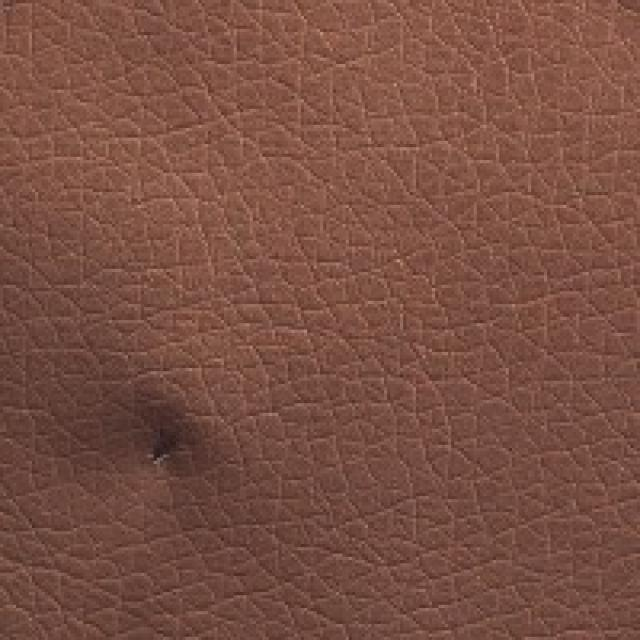Hole: (59, 346, 265, 556)
